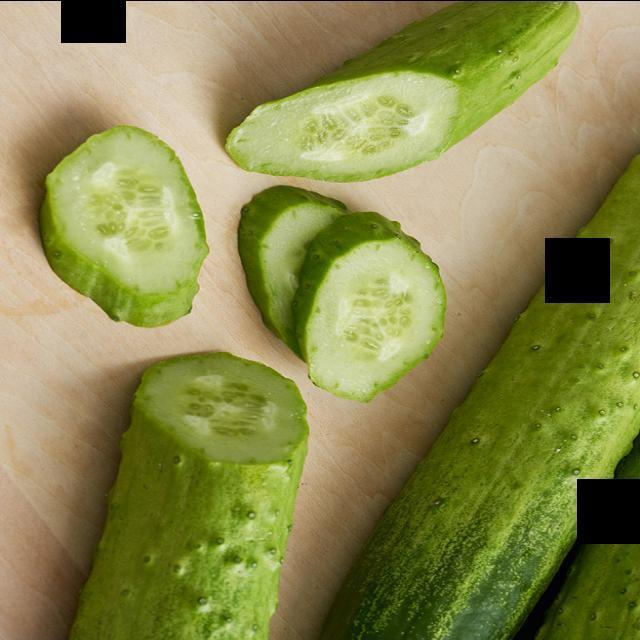cucumber: (226, 0, 582, 182), (113, 342, 318, 640), (23, 93, 225, 334), (275, 194, 461, 406)
